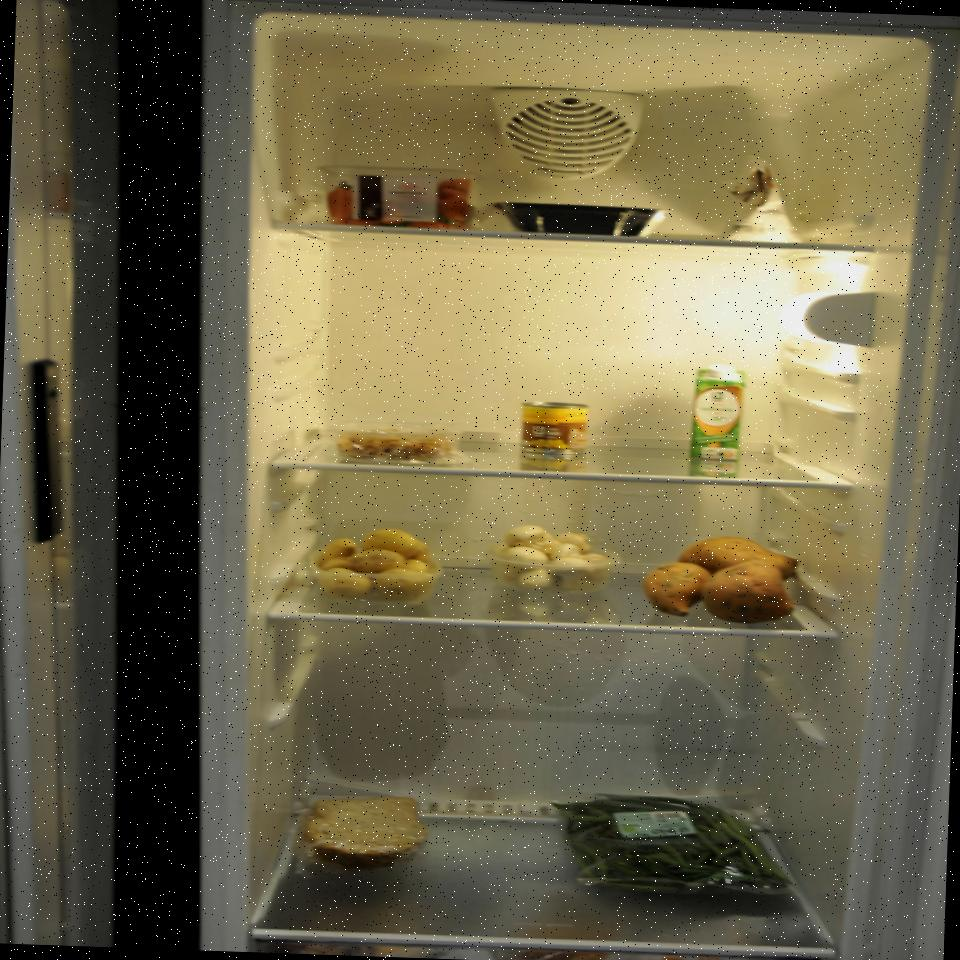strawberries: (322, 166, 492, 230)
